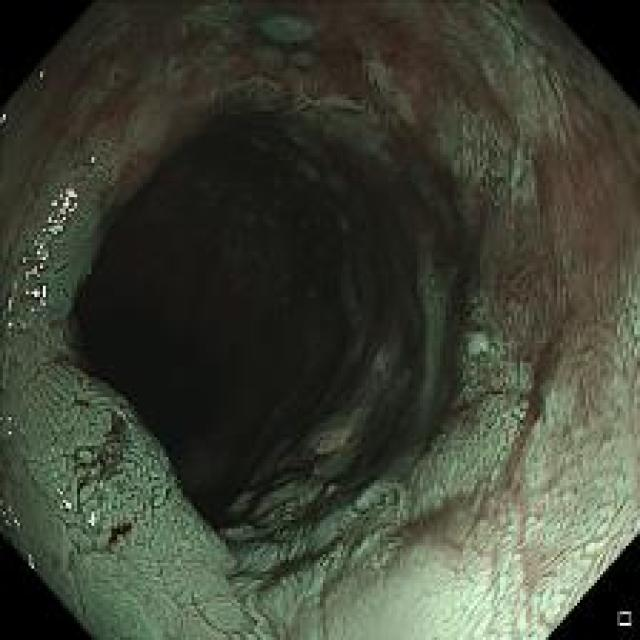blood: (104, 519, 136, 548)
color misalignment: (39, 68, 45, 79), (89, 156, 96, 165)
contrast: (62, 115, 364, 555)
specularity: (48, 188, 79, 230), (34, 214, 55, 274), (0, 496, 22, 532), (24, 281, 49, 306), (56, 491, 74, 511), (85, 511, 99, 530), (6, 316, 25, 330), (5, 292, 15, 312), (19, 254, 32, 264), (28, 554, 35, 568), (38, 68, 46, 80)
